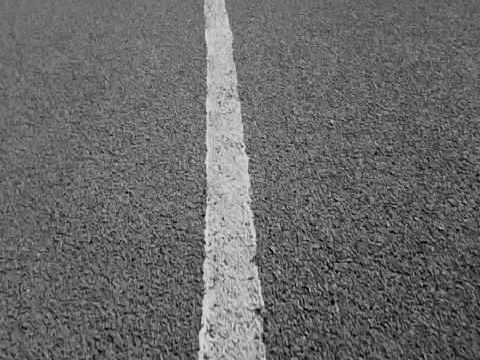Lines: (200, 0, 268, 360)
